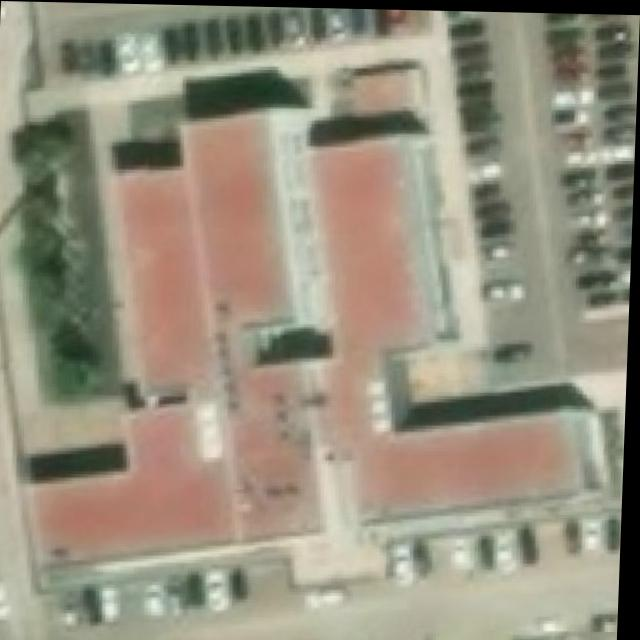Batiment: (313, 85, 423, 437), (194, 303, 333, 538), (36, 407, 231, 559), (184, 111, 285, 321), (366, 413, 576, 507), (117, 167, 205, 385)
